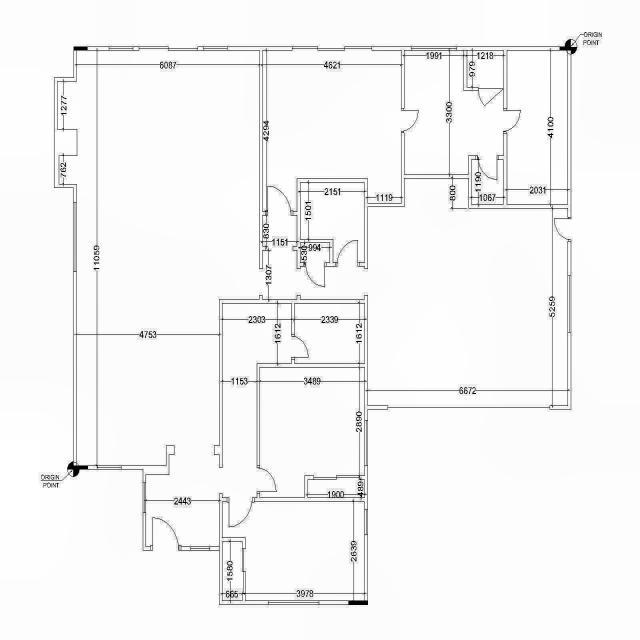Column: (348, 600, 368, 606), (74, 46, 88, 50), (74, 466, 88, 470), (560, 46, 572, 50)
Door: (150, 516, 182, 550), (266, 186, 294, 216), (227, 497, 254, 528), (335, 239, 360, 267), (304, 262, 326, 288), (476, 155, 498, 181), (257, 466, 277, 494), (291, 334, 309, 360), (503, 108, 521, 134), (401, 108, 419, 133), (554, 217, 572, 242), (478, 88, 503, 106)
Sliding Door: (292, 46, 372, 50), (139, 46, 198, 50), (242, 548, 246, 594), (314, 476, 359, 480)
Window: (268, 600, 319, 606), (73, 202, 77, 272), (568, 276, 572, 332), (364, 420, 368, 466), (411, 46, 457, 50), (96, 466, 122, 470), (108, 46, 134, 50), (203, 46, 228, 50), (143, 482, 146, 514), (364, 510, 368, 534), (190, 546, 210, 550)
